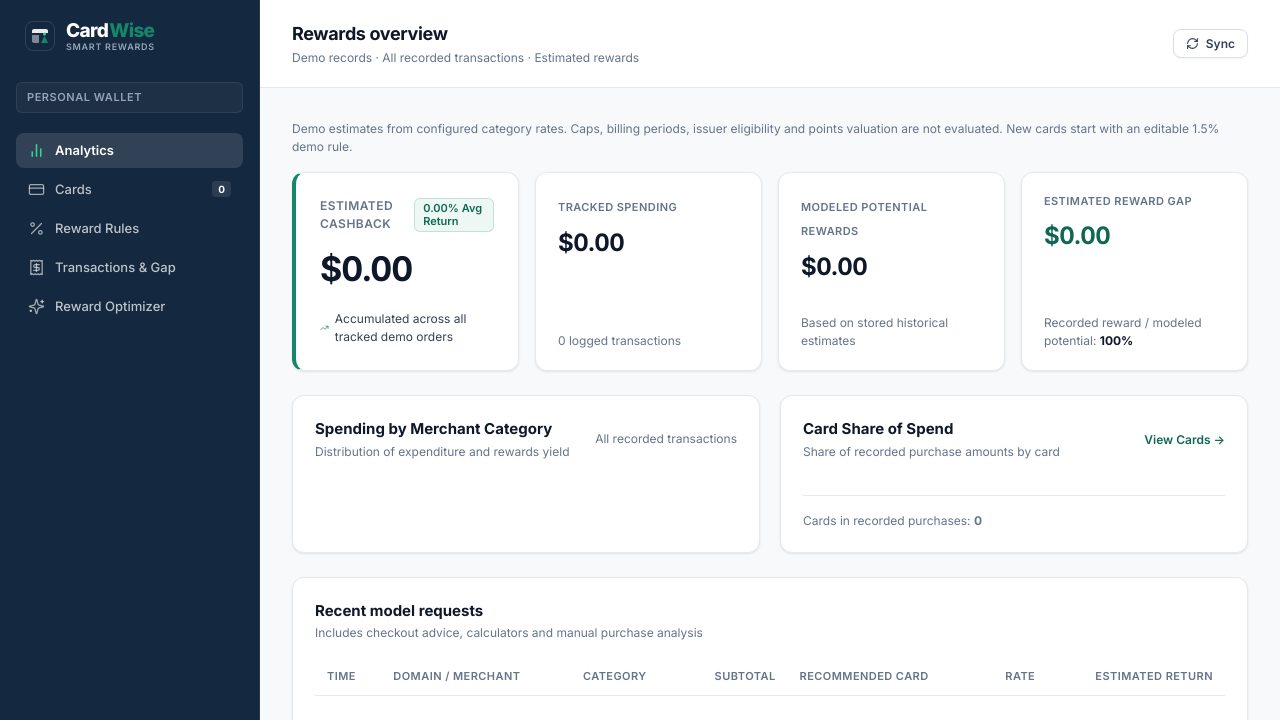
Scenario: Dashboard readiness behavior › does not announce a successful refresh when loading fails
Step 1. Click the button "Sync" → (1210, 44), box [1173,29,1248,58]
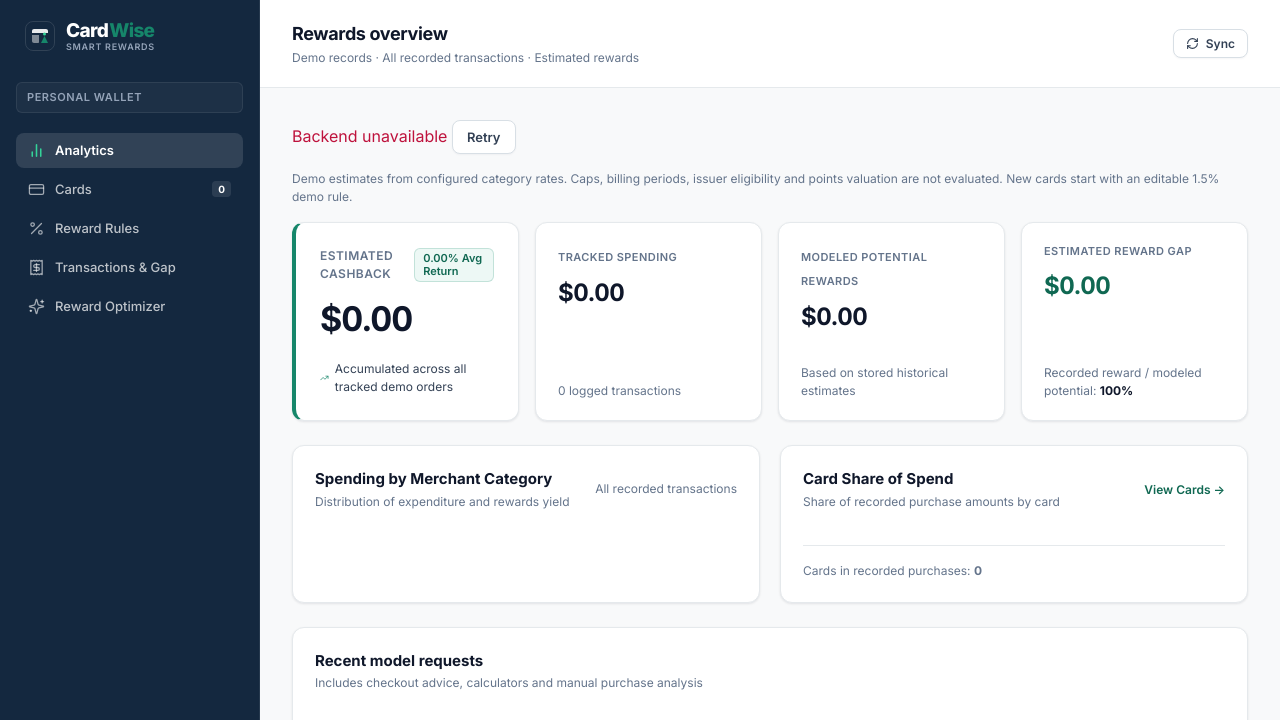
Expected: the text "Dashboard refreshed." is not shown
Now the message "Backend unavailable Retry" is shown, box [292,120,516,154]
Now the button "Retry" is shown
Step 2. Click the button "Retry" → (484, 137), box [452,120,516,154]
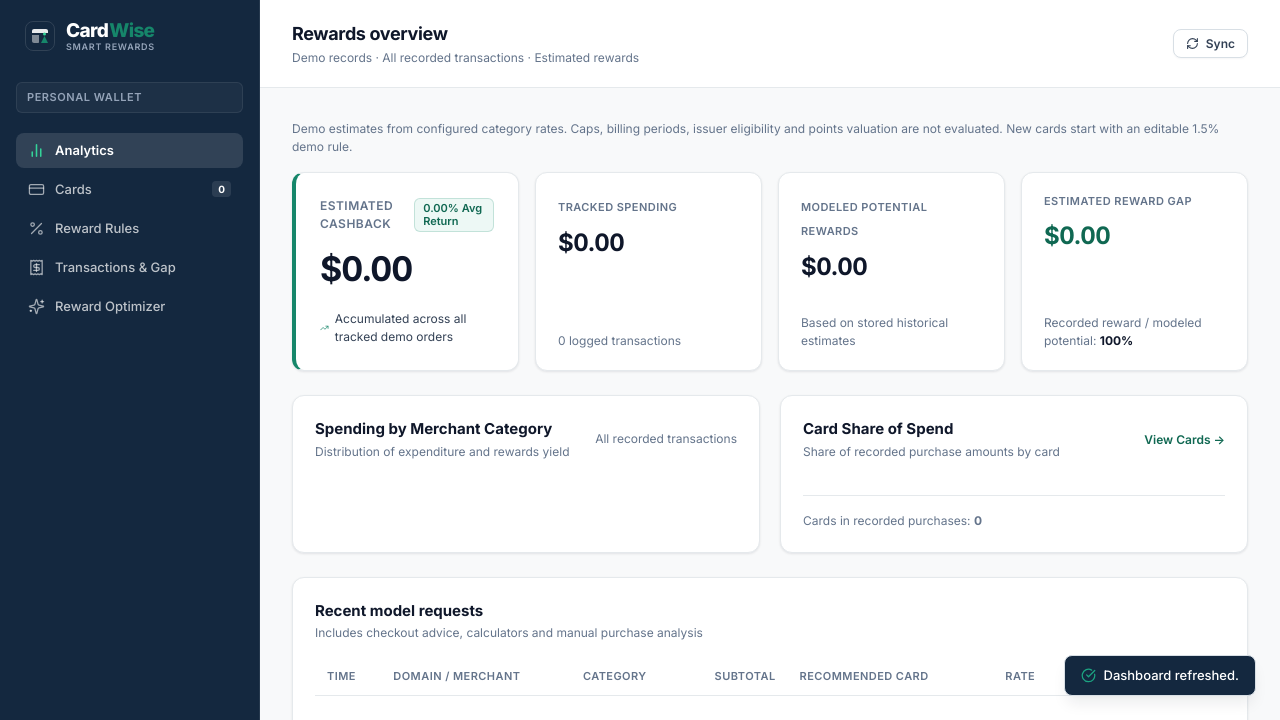
Now the text "Dashboard refreshed." is shown, box [1104,666,1239,685]
